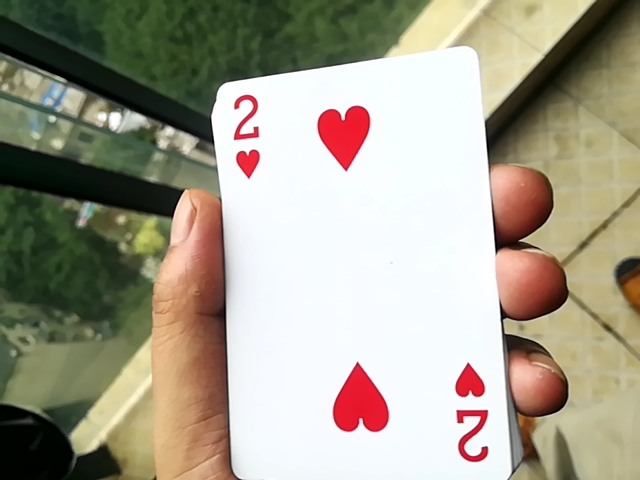hx 2: (197, 47, 517, 478)
